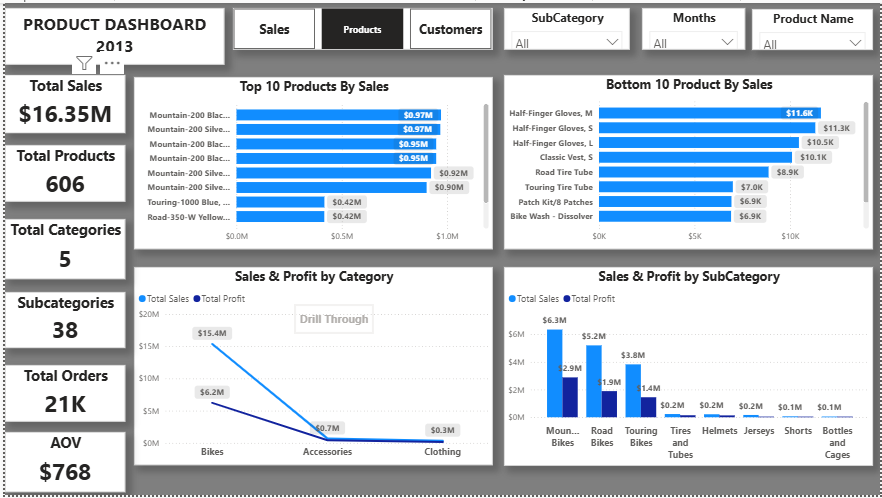

Layout of this report page (visuals, bound fields, positions):
{"tool":"powerbi","page":{"name":"Products","canvas":[1280,720],"ordinal":1},"visuals":[{"type":"lineChart","title":"Sales & Profit by Category","fields":{"Category":["Dimproductcleaned.ProductCategory"],"Y":["FinancialCategories.Total Sales","FinancialCategories.Total Profit"]},"box":[188.8,386.3,525.4,289.8],"z":0},{"type":"textbox","box":[0,7.4,321.5,83.3],"z":1000},{"type":"card","title":"Total Sales","fields":{"Values":["FinancialCategories.Total Sales"]},"box":[0,105.7,175.6,84.8],"z":2000},{"type":"card","title":"Total Orders","fields":{"Values":["FinancialCategories.Total Orders"]},"box":[0,529.9,175.6,83.3],"z":3000},{"type":"card","title":"Total Products","fields":{"Values":["Dimproductcleaned.Total Products"]},"box":[0,208.4,175.6,83.3],"z":4000},{"type":"card","title":"Total Categories","fields":{"Values":["FinancialCategories.Total Category"]},"box":[0,315.5,175.6,87.8],"z":5000},{"type":"card","title":"AOV","fields":{"Values":["FinancialCategories.AOV"]},"box":[0,627.8,175.6,87.8],"z":6000},{"type":"slicer","title":"SubCategory","fields":{"Values":["DimCustomerCleaned.Region"]},"box":[730.2,7.3,184.4,61.5],"z":7000},{"type":"slicer","title":"Months","fields":{"Values":["DimCustomerCleaned.City"]},"box":[932.2,7.3,150.7,61.5],"z":8000},{"type":"pageNavigator","box":[333.7,7.3,380.5,61.5],"z":9000},{"type":"card","title":"Subcategories","fields":{"Values":["FinancialCategories.Total SubCategories"]},"box":[0,422.7,175.6,81.9],"z":10000},{"type":"barChart","title":"Top 10 Products By Sales","fields":{"Category":["Dimproductcleaned.ProductName"],"Y":["FinancialCategories.Total Sales"]},"box":[188.8,108.3,525.4,251.7],"z":11000},{"type":"barChart","title":"Bottom 10 Product By Sales","fields":{"Category":["Dimproductcleaned.ProductName"],"Y":["FinancialCategories.Total Sales"]},"box":[730.2,105.4,540,254.6],"z":12000},{"type":"lineClusteredColumnComboChart","title":"Sales & Profit by SubCategory","fields":{"Category":["Dimproductcleaned.SubCategory"],"Y":["FinancialCategories.Total Sales","FinancialCategories.Total Profit"]},"box":[730.2,386.3,540,291.2],"z":13000},{"type":"actionButton","title":"Drill Through","box":[422.9,440.5,117.1,43.9],"z":14000},{"type":"slicer","title":"Product Name","fields":{"Values":["DimCustomerCleaned.Name"]},"box":[1093.2,8.8,177.1,60],"z":15000}]}

Visuals, with their boxes in screenshot pixels (x1, y1, x2, y2), scaled from the page's 1280x720 canvas onto the 882x498 screenshot:
"Sales & Profit by Category" lineChart: 130 267 492 468
textbox: 0 5 222 63
"Total Sales" card: 0 73 121 132
"Total Orders" card: 0 367 121 424
"Total Products" card: 0 144 121 202
"Total Categories" card: 0 218 121 279
"AOV" card: 0 434 121 495
"SubCategory" slicer: 503 5 630 48
"Months" slicer: 642 5 746 48
pageNavigator: 230 5 492 48
"Subcategories" card: 0 292 121 349
"Top 10 Products By Sales" barChart: 130 75 492 249
"Bottom 10 Product By Sales" barChart: 503 73 875 249
"Sales & Profit by SubCategory" lineClusteredColumnComboChart: 503 267 875 469
"Drill Through" actionButton: 291 305 372 335
"Product Name" slicer: 753 6 875 48
